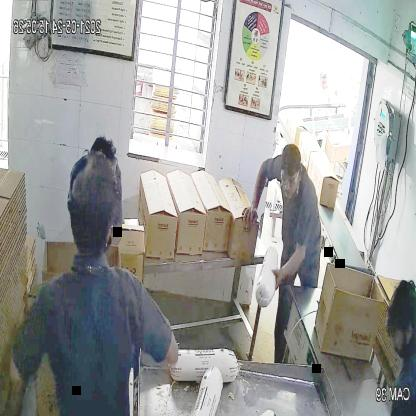goggles: (280, 171, 300, 190)
